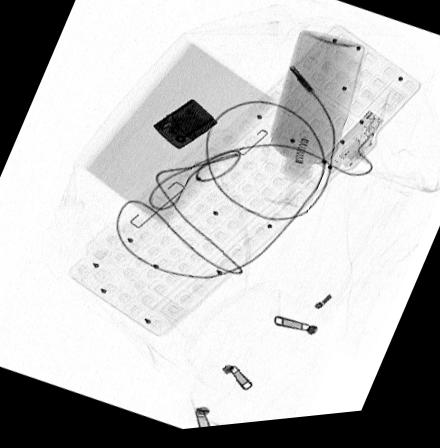Lighter: (151, 102, 217, 153)
